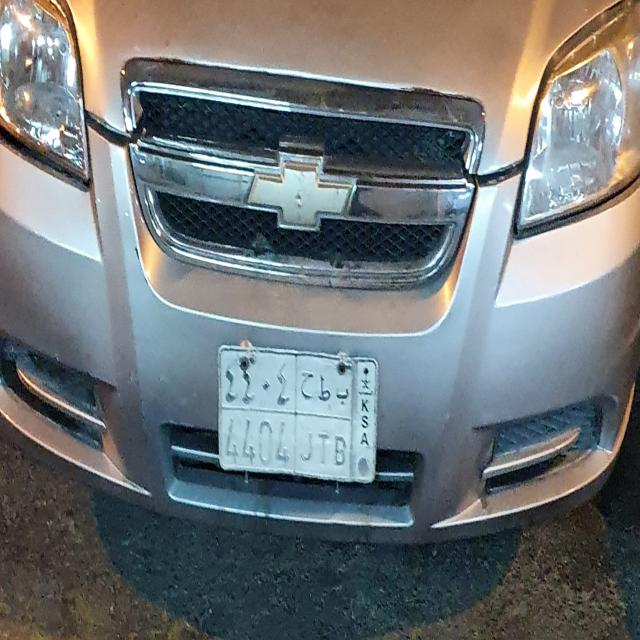license_plate: (217, 341, 380, 487)
